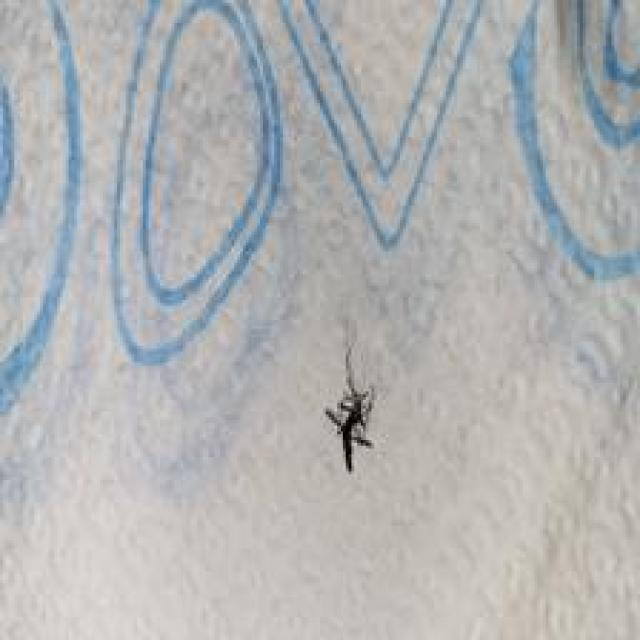Aedes albopictus: (324, 344, 376, 473)
